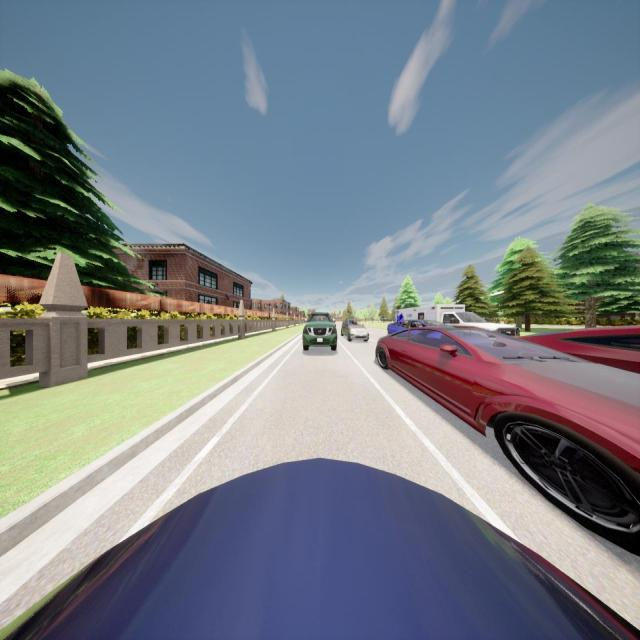Vehicle: (1, 456, 640, 640), (376, 324, 640, 554), (525, 322, 640, 374), (395, 304, 522, 335), (302, 312, 338, 351), (387, 319, 447, 339), (341, 318, 370, 342)
